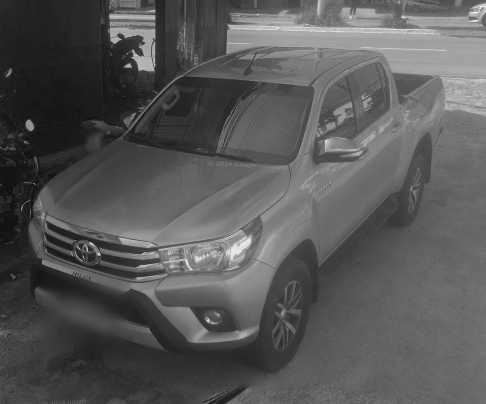car: (31, 48, 455, 374)
